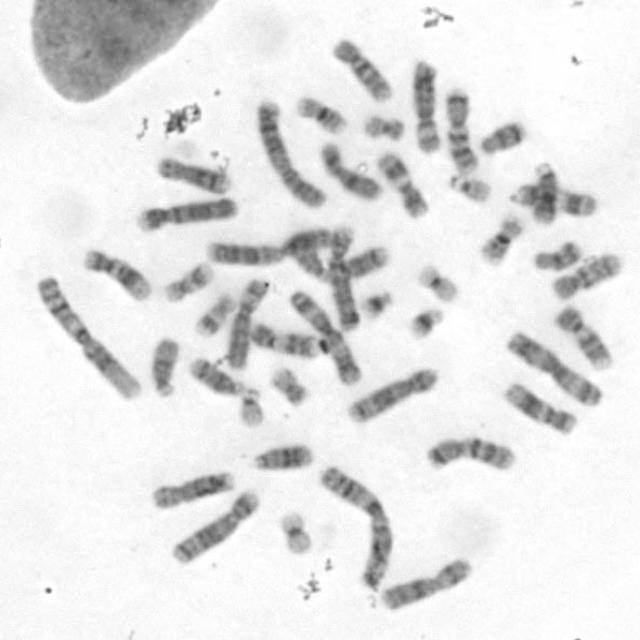A1: (29, 273, 141, 402), (322, 464, 395, 592)
A2: (254, 98, 330, 211), (206, 226, 338, 267)
A3: (504, 329, 603, 407), (288, 288, 363, 388)
B4: (327, 223, 363, 333), (139, 197, 239, 234)
B5: (168, 488, 260, 566), (346, 364, 438, 426)
C10: (332, 36, 394, 103), (549, 251, 625, 304)
C11: (374, 151, 433, 221), (519, 182, 599, 218)
C12: (501, 382, 578, 436), (79, 248, 153, 302)
C6: (225, 276, 271, 368), (409, 59, 443, 154)
C7: (426, 434, 516, 475), (444, 84, 481, 174)
C8: (151, 469, 236, 512), (156, 156, 233, 195)
C9: (552, 301, 614, 372), (248, 321, 319, 360)
D13: (527, 161, 560, 225), (250, 442, 318, 472)
D14: (316, 245, 392, 285), (187, 356, 248, 398)
D15: (147, 337, 182, 401), (286, 228, 328, 280)
E16: (479, 213, 524, 269), (296, 93, 350, 137)
E17: (162, 262, 216, 306), (194, 290, 235, 338)
E18: (479, 118, 526, 158), (532, 239, 582, 273)
F19: (415, 262, 460, 306), (276, 512, 315, 556)
F20: (268, 364, 308, 410), (363, 112, 406, 142)
G21: (406, 306, 447, 344), (359, 290, 394, 322)
G22: (447, 173, 494, 204), (237, 385, 265, 428)
X: (379, 559, 472, 612), (318, 140, 384, 203)
